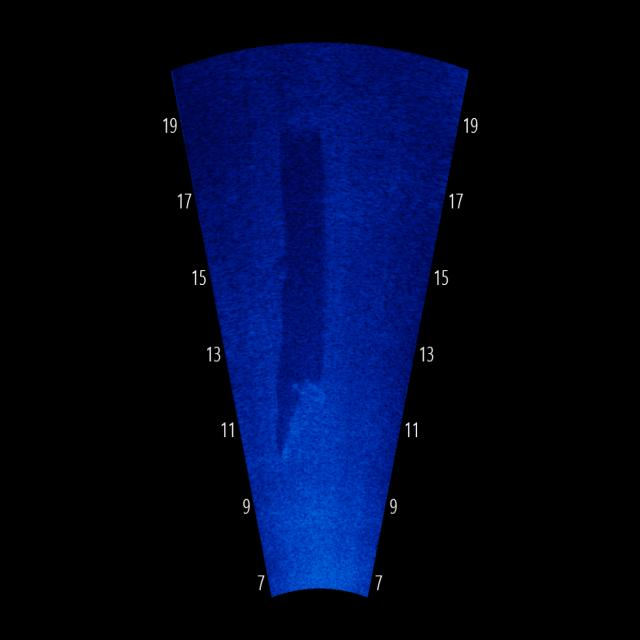triangle: (273, 364, 343, 469)
